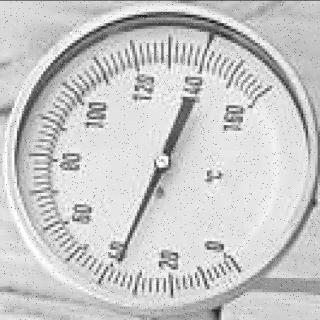gauge: (0, 0, 320, 320), (222, 83, 274, 141), (201, 228, 254, 280), (153, 152, 173, 170), (112, 250, 130, 267)
